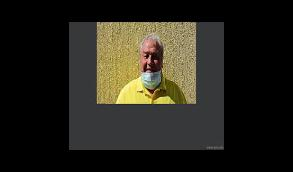mask_weared_incorrect: (142, 50, 162, 79)
